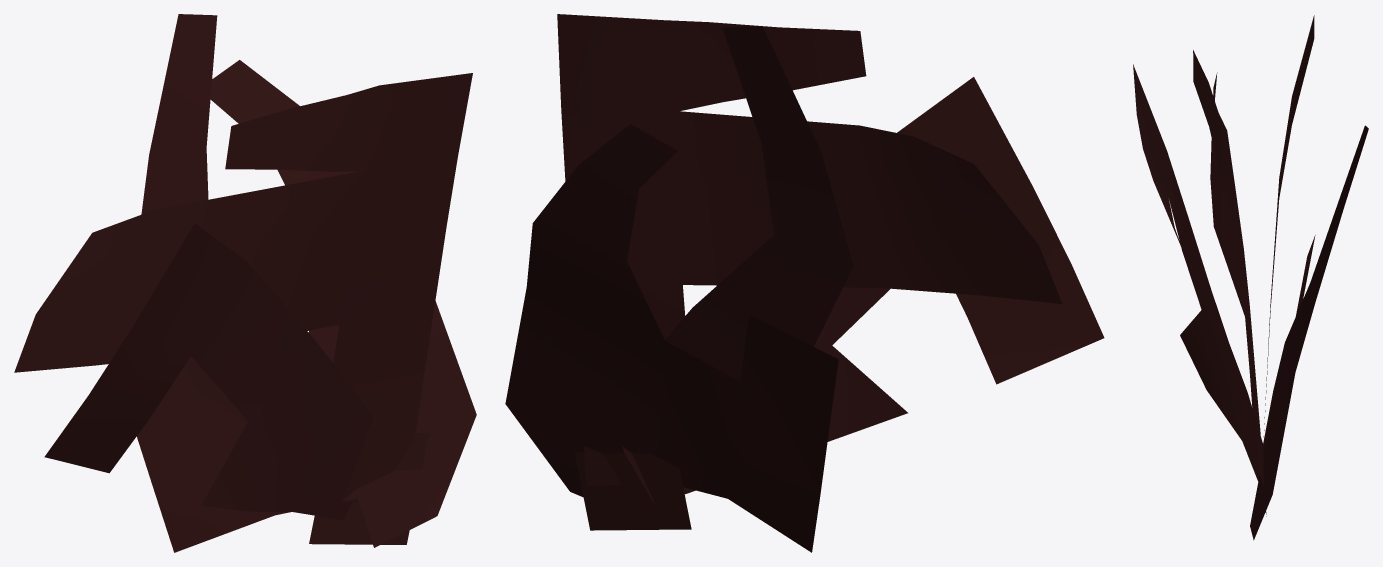
File: SM_ocean_scatterPlant_02.fbx
3 views of the same model, side by side, from view 1: azimuth 30°, elevation 25°; view 2: azimuth 150°, elevation 25°; view 3: azimuth 270°, elevation 25° (orthographic). The views are drawn at different scales.
Parts seen in each view (by area): view 1: SM_ocean_scatterPlant_02_LOD0; view 2: SM_ocean_scatterPlant_02_LOD0; view 3: SM_ocean_scatterPlant_02_LOD0.
Boxes of the visible parts, x1=… form: SM_ocean_scatterPlant_02_LOD0: x1=14, y1=14, x2=476, y2=552; SM_ocean_scatterPlant_02_LOD0: x1=505, y1=14, x2=1104, y2=552; SM_ocean_scatterPlant_02_LOD0: x1=1133, y1=15, x2=1368, y2=540.
Size of what is drawn, in the model's own units: 39.06 by 19.14 by 41.15.
